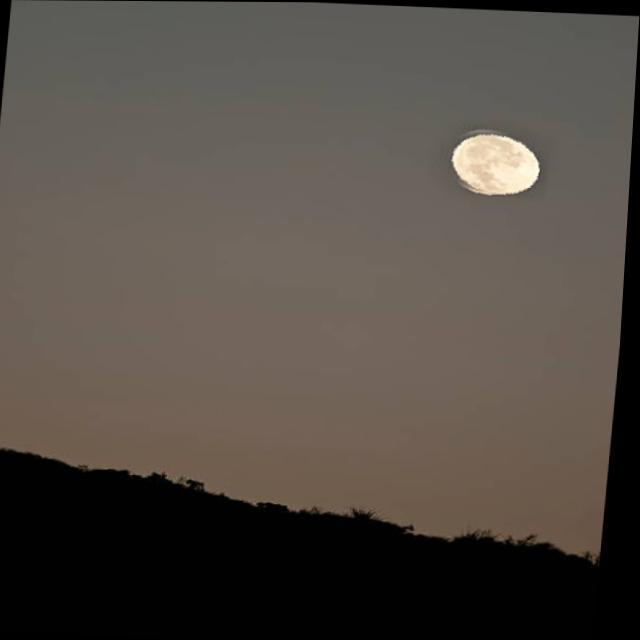moon: (439, 121, 554, 198)
